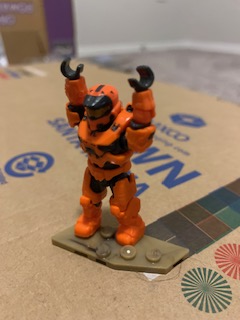spartan: (59, 55, 158, 247)
up: (60, 57, 158, 169)
